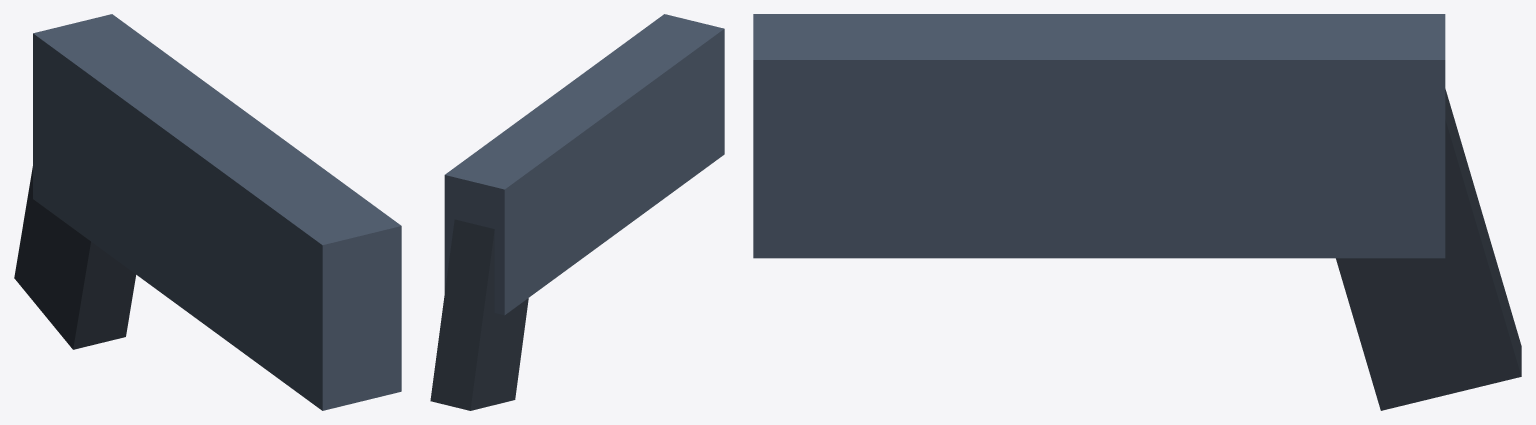
The model's file is pistol.gltf.
3 views of the same model, side by side, from view 1: azimuth 30°, elevation 25°; view 2: azimuth 150°, elevation 25°; view 3: azimuth 270°, elevation 25° (orthographic). The views are drawn at different scales.
Visible parts, largest first — view 1: cube (×2); view 2: cube (×2); view 3: cube (×2).
Boxes of the visible parts, left/top/right/bottom form: cube (×2): left=14, top=14, right=401, bottom=410; cube (×2): left=430, top=14, right=724, bottom=410; cube (×2): left=753, top=14, right=1521, bottom=410.
Bounding box in the file's own units: 0.0375 × 0.1358 × 0.2637.
Materials: 1 (1 with a texture image).
